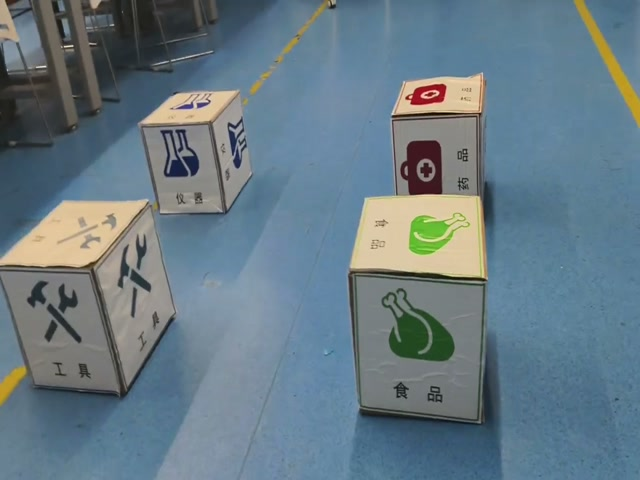Cube_food: (351, 193, 486, 285)
Cube_ins: (140, 89, 238, 127)
Cube_medicine: (386, 72, 484, 122)
Cube_tool: (0, 194, 152, 274)
